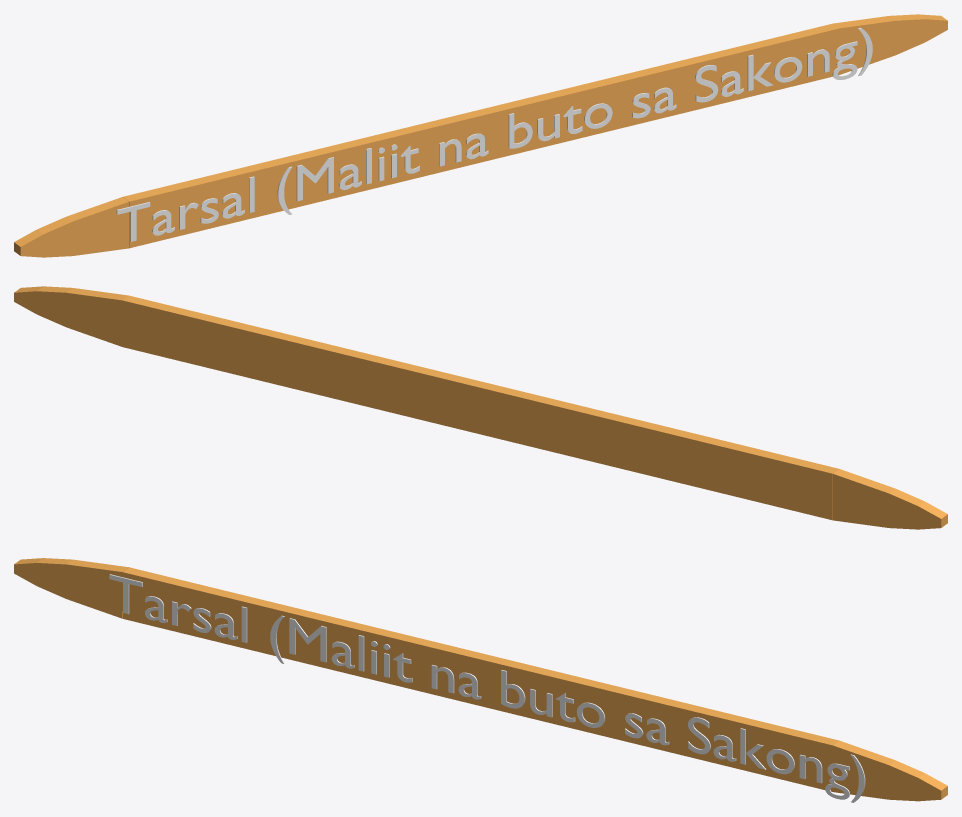
The model's file is txtTarsal.fbx.
3 renders of one model, top to bottom at view 1: azimuth 30°, elevation 25°; view 2: azimuth 150°, elevation 25°; view 3: azimuth 330°, elevation 25°, orthographic.
Visible parts, largest first — view 1: TagContainer.056, Text.057; view 2: TagContainer.056; view 3: TagContainer.056, Text.057.
Boxes of the visible parts, box(x1,y1,x2,y2) form: TagContainer.056: box(14, 14, 947, 257); Text.057: box(116, 27, 872, 241); TagContainer.056: box(14, 286, 947, 529); TagContainer.056: box(14, 558, 947, 801); Text.057: box(109, 574, 865, 802).
Size of the model in its own units: 859 by 45.81 by 11.79.
